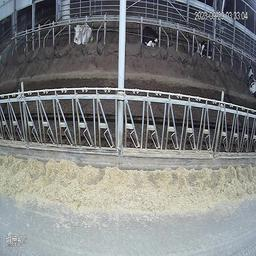cow: (73, 23, 93, 46), (140, 26, 162, 46), (195, 37, 214, 60), (244, 62, 255, 99)
